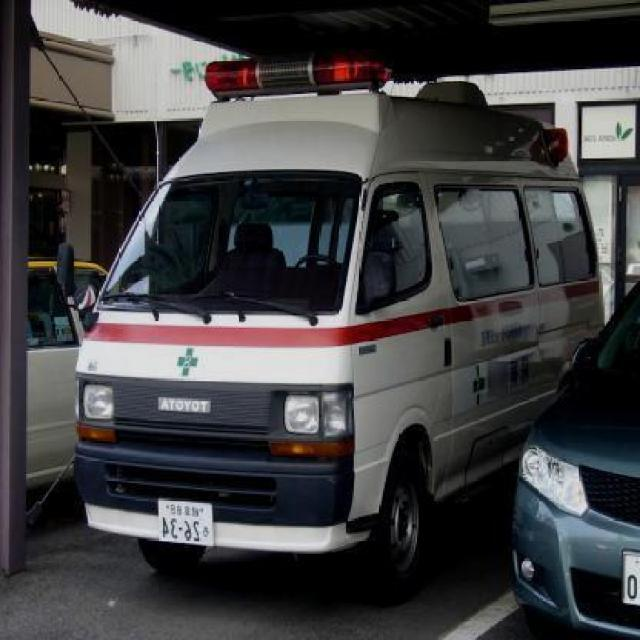emergency: (62, 52, 606, 596)
